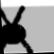not correct: (0, 3, 37, 54)
